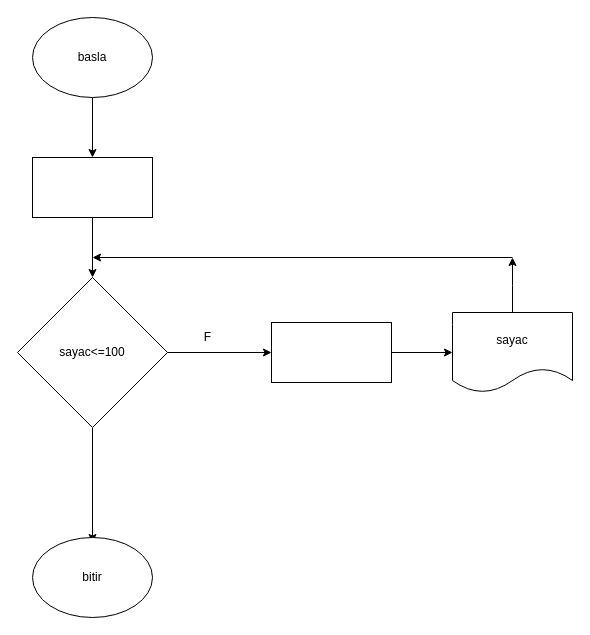
Image size: 590x635. Some labels were removed from this diagram. Here are the shapes that lost their labels. From the top down, the centre of each, then its label:
At pixel 92 187: "sayac = 0".
At pixel 331 352: "sayac++".
